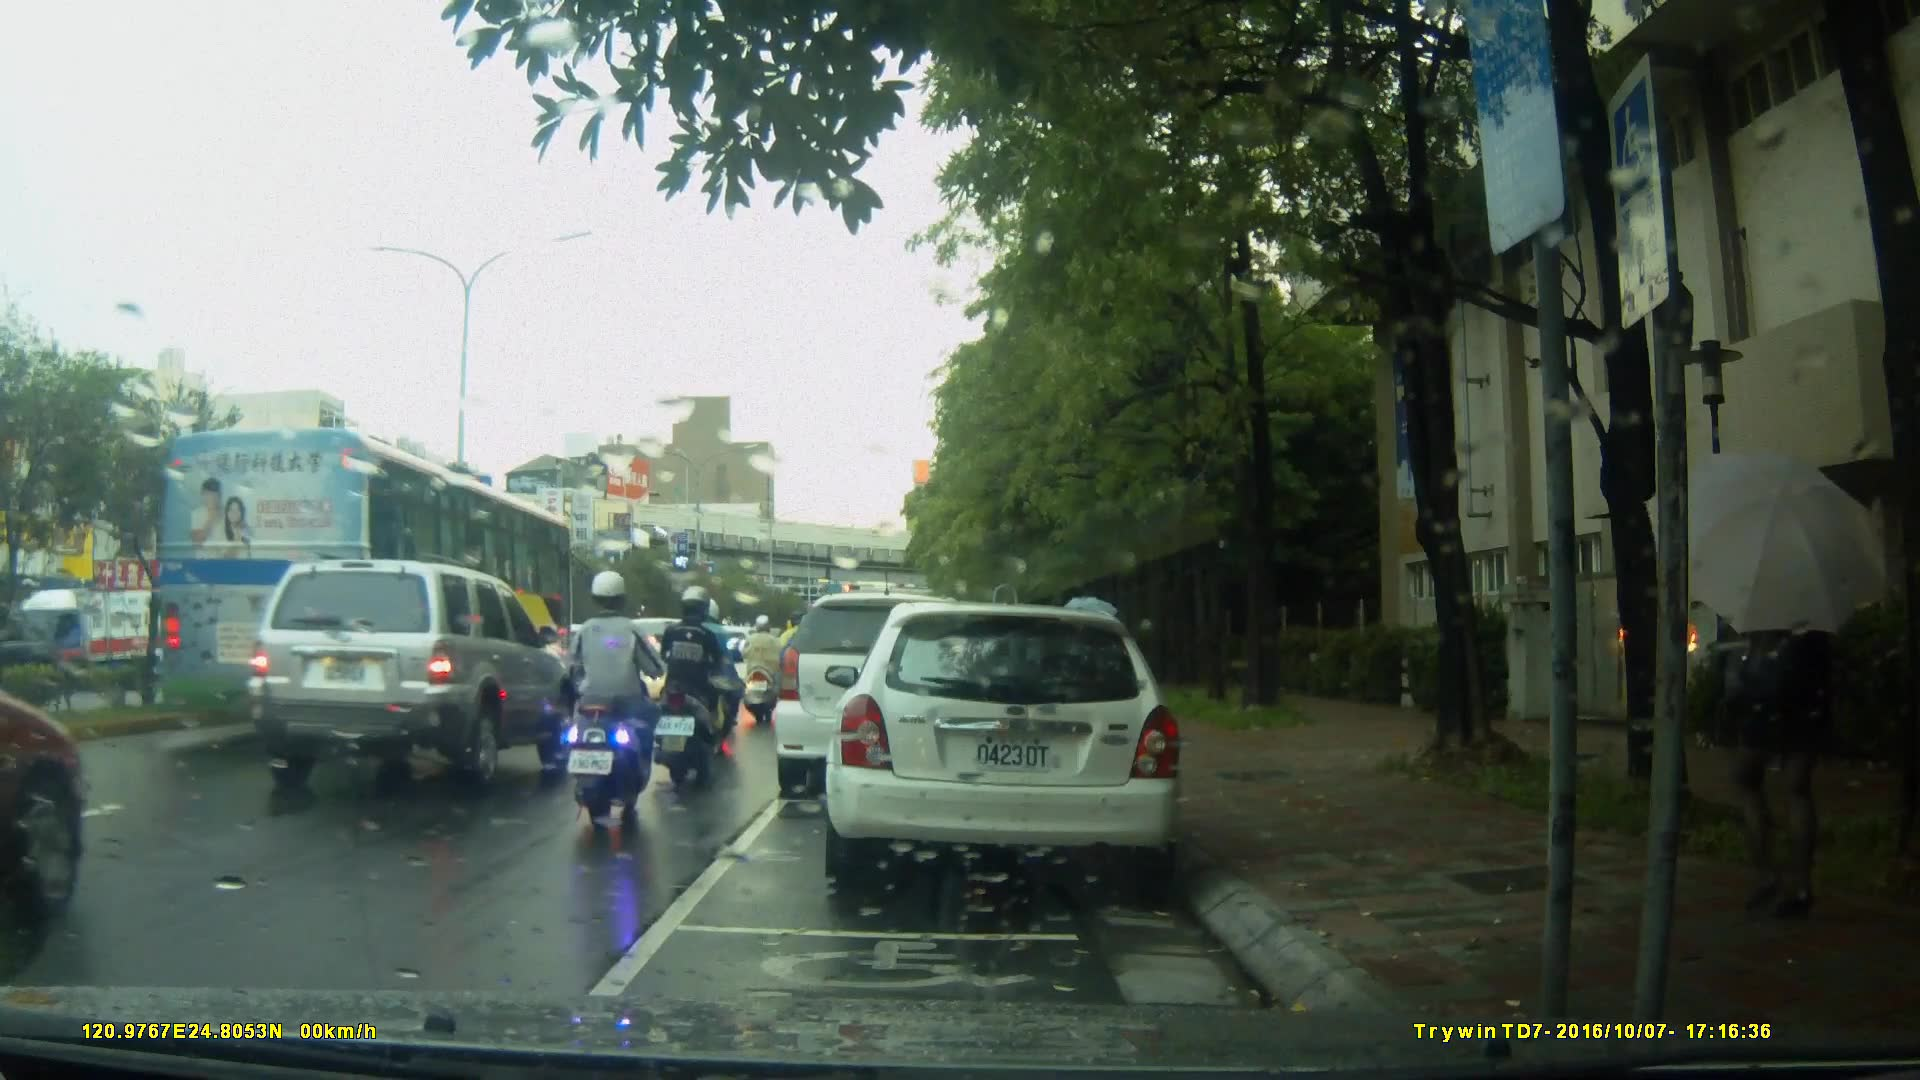pedestrian: (1717, 516, 1854, 925)
rider: (566, 568, 663, 823), (650, 583, 728, 794), (687, 596, 752, 742), (746, 610, 789, 729)
vehicle: (149, 424, 580, 740), (835, 594, 1194, 898), (243, 556, 580, 793), (776, 590, 1026, 784)
